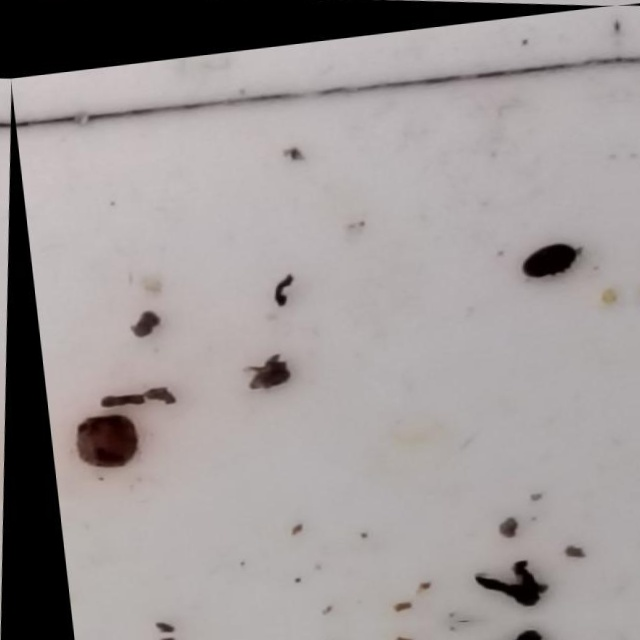varroa: (508, 241, 576, 282), (430, 613, 477, 622)
